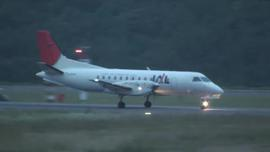aircraft: (35, 29, 225, 108)
